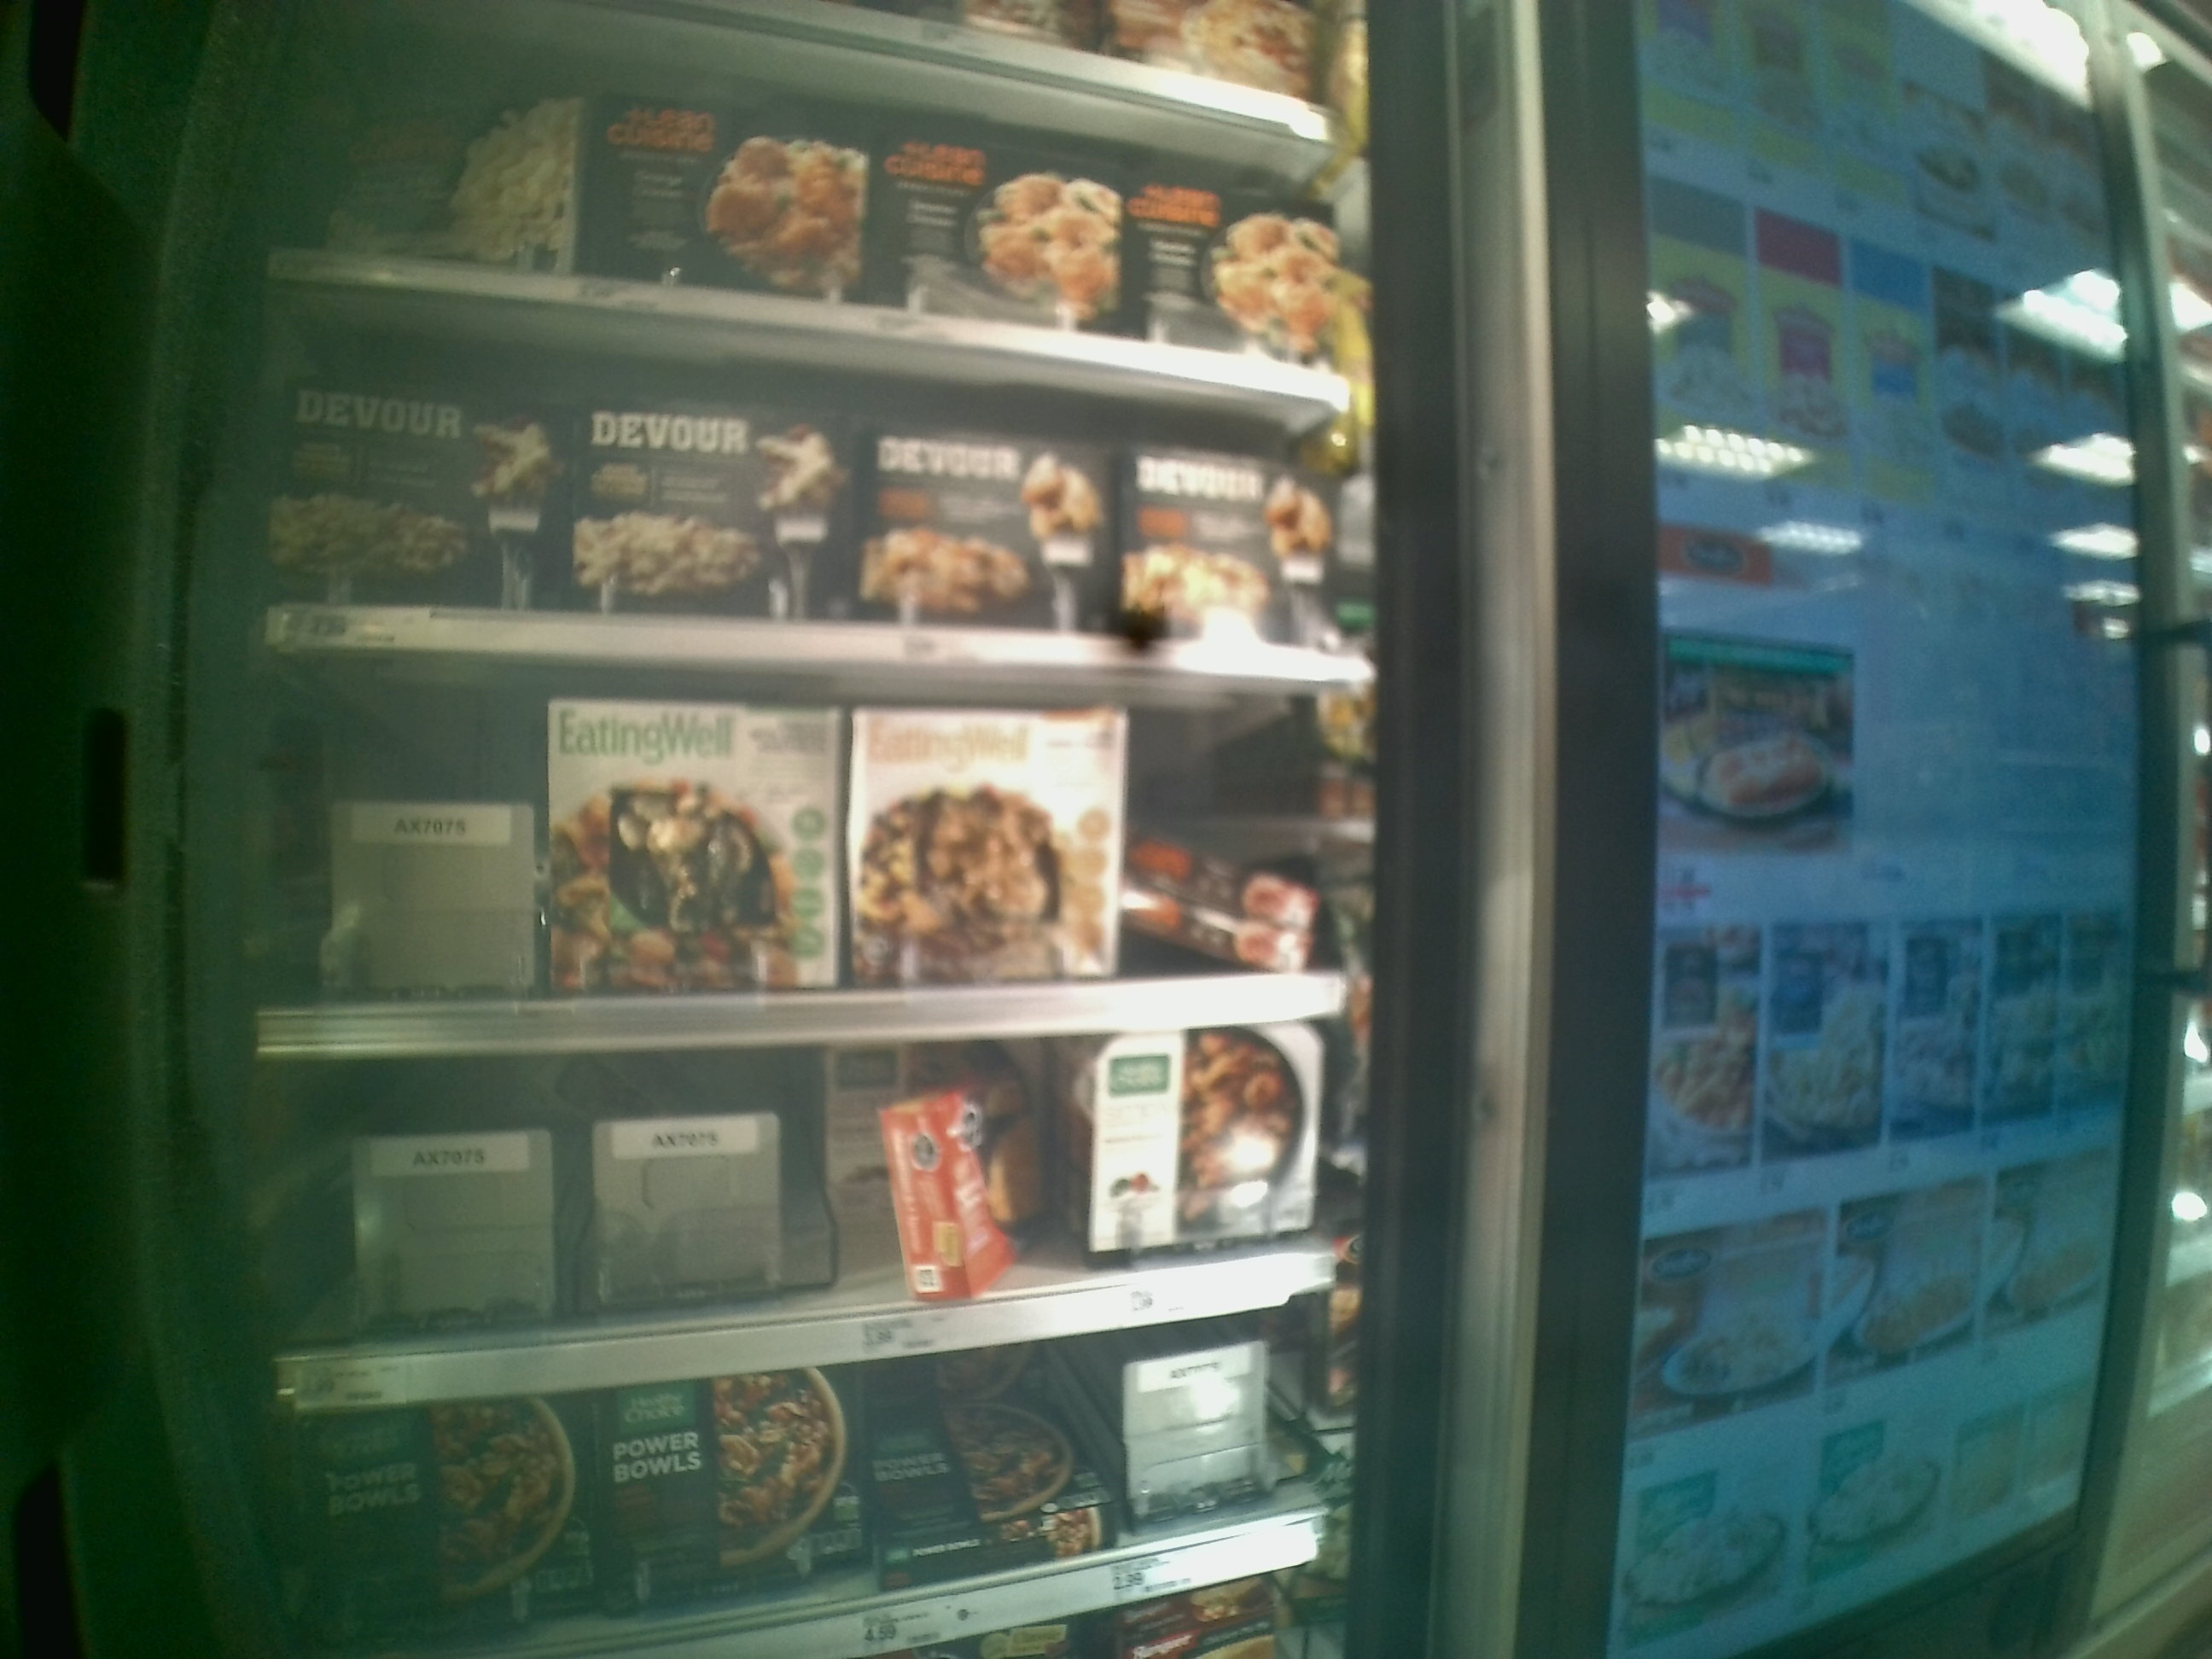shelf: (256, 1007, 1371, 1434), (251, 653, 1393, 1065), (265, 270, 1350, 676)
